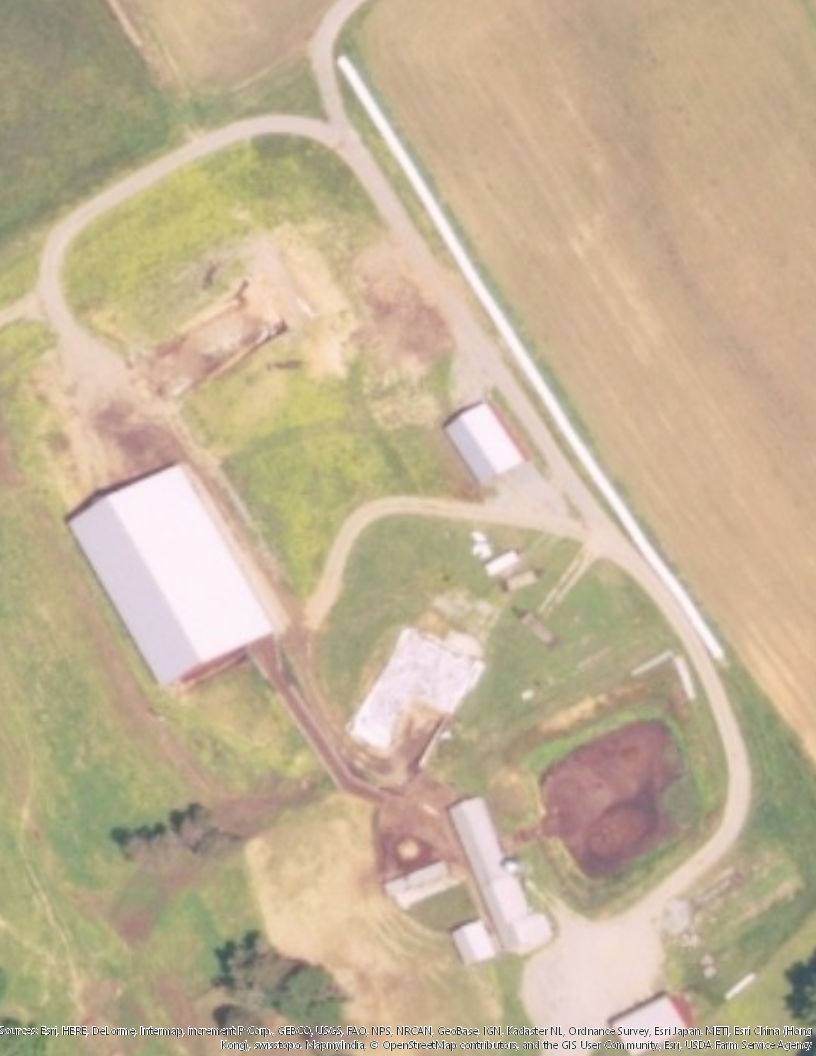cafo: (53, 451, 289, 690), (436, 395, 532, 496)
